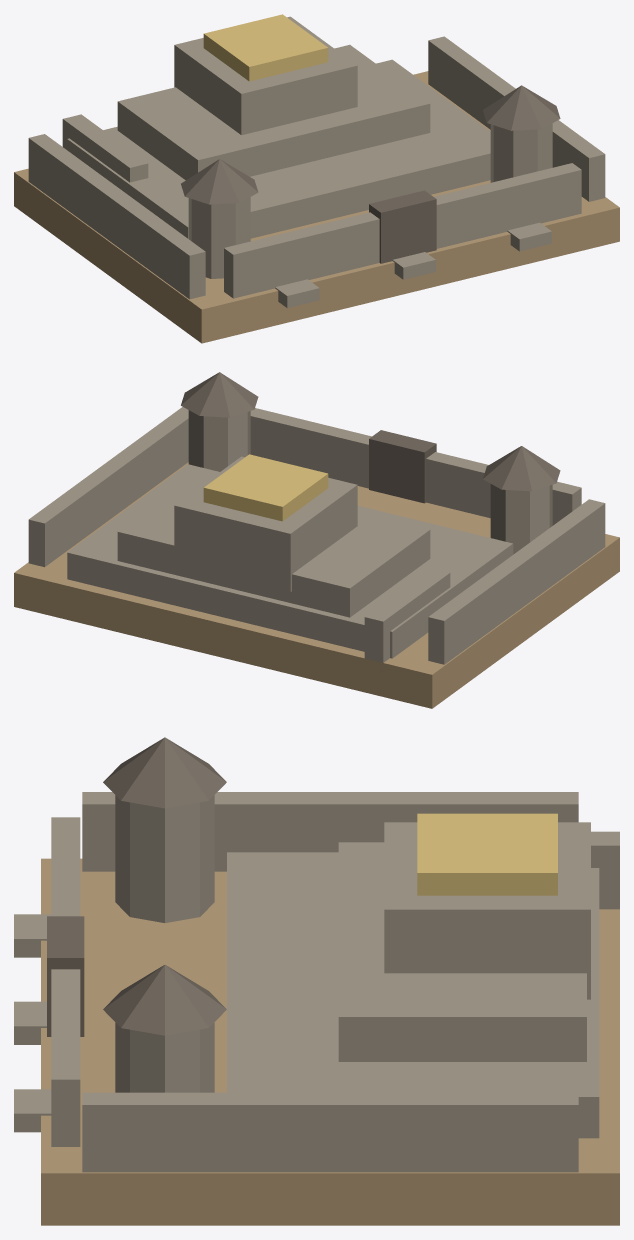
Rendered from cusco_inca_lod0.glb.
The picture shows the model from 3 angles, top to bottom: view 1: azimuth 30°, elevation 25°; view 2: azimuth 150°, elevation 25°; view 3: azimuth 270°, elevation 25°; orthographic projection. The views are drawn at different scales.
Visible parts, largest first — view 1: cusco_inca; view 2: cusco_inca; view 3: cusco_inca.
Boxes of the visible parts, <box> form: cusco_inca: <box>14,14,619,343</box>; cusco_inca: <box>14,372,619,708</box>; cusco_inca: <box>14,737,619,1225</box>.
Size of the model in its own units: 18 by 6 by 14.65.
